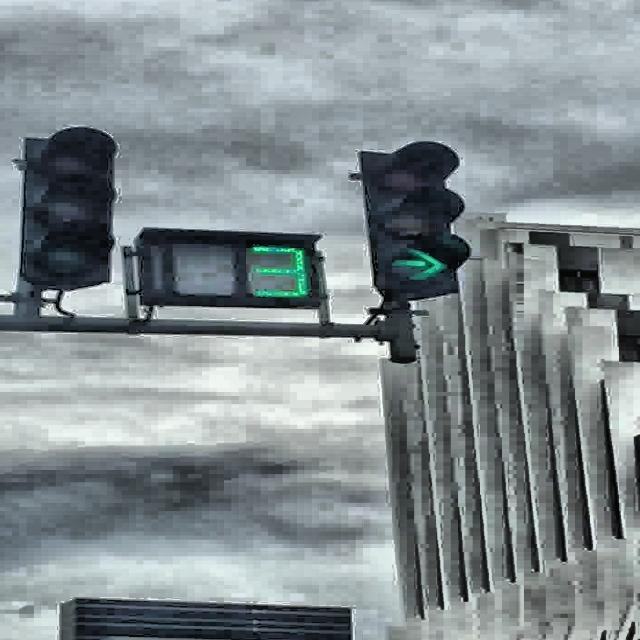green: (358, 142, 472, 297)
